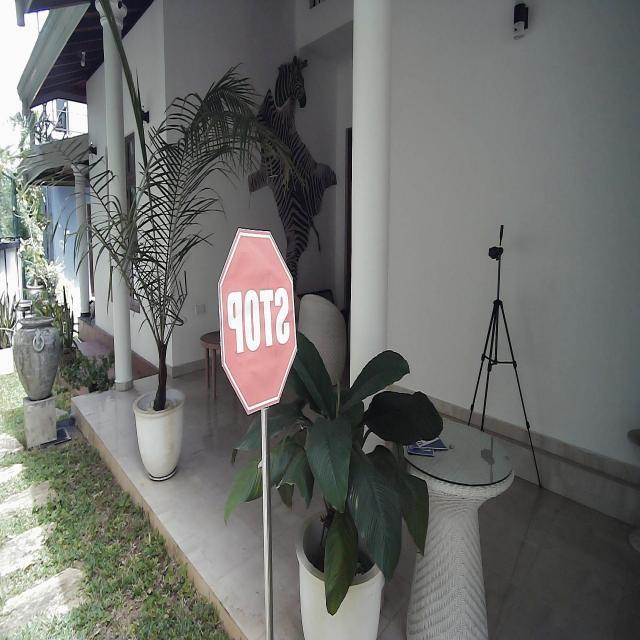stop: (216, 223, 300, 420)
